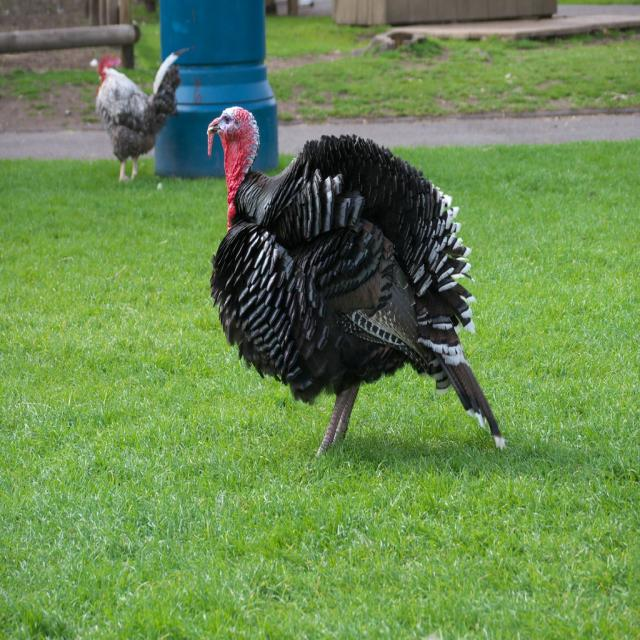Chicken: (206, 106, 507, 459), (94, 49, 198, 181)
